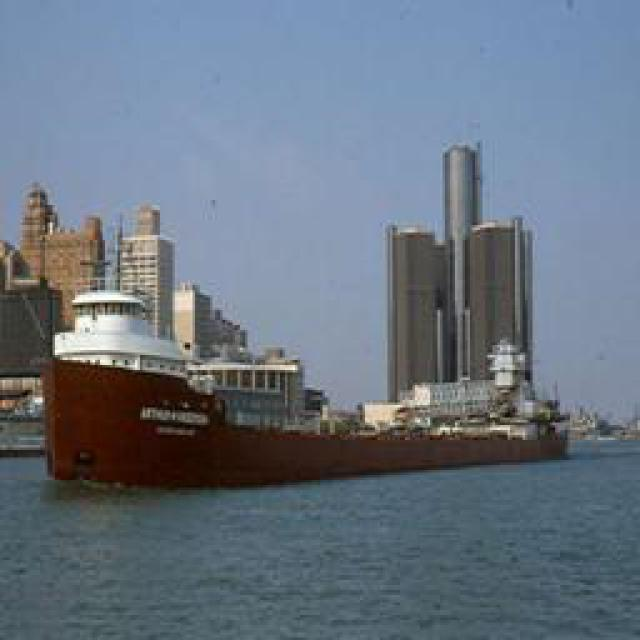Ship: (41, 277, 594, 497)
